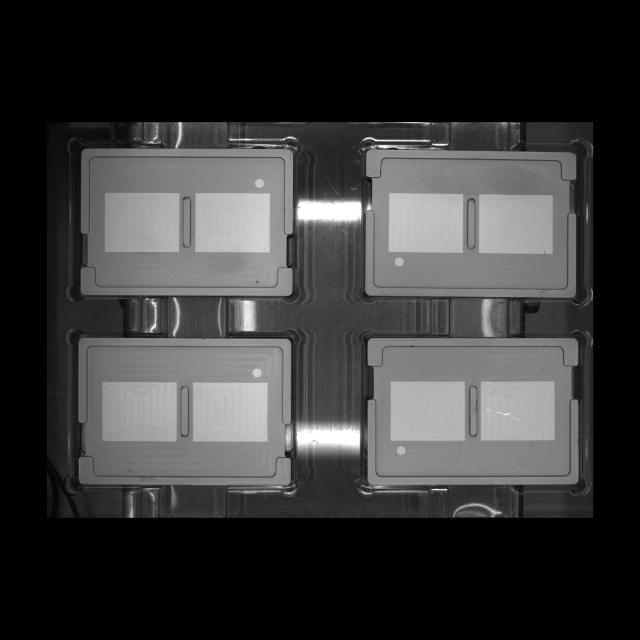product: (355, 325, 591, 498), (65, 134, 303, 305), (356, 133, 591, 306), (64, 326, 301, 494)
